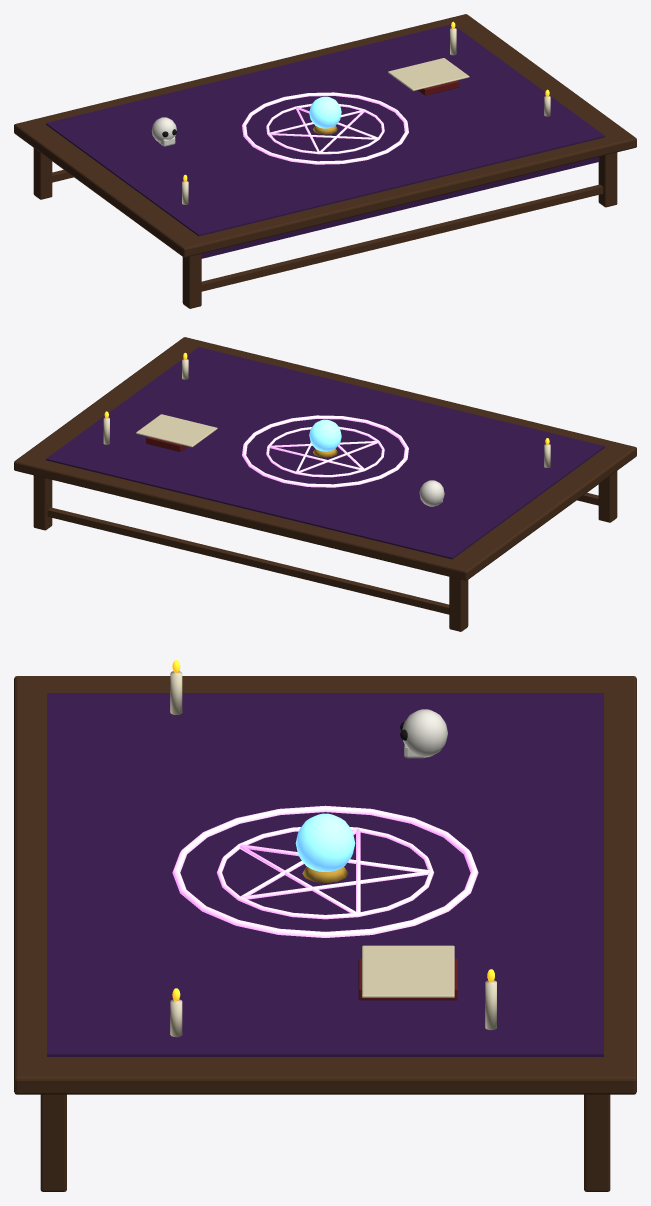
Rendered from sorcerers_table.glb.
The picture shows the model from 3 angles, top to bottom: view 1: azimuth 30°, elevation 25°; view 2: azimuth 150°, elevation 25°; view 3: azimuth 270°, elevation 25°; orthographic projection. The views are drawn at different scales.
Parts seen in each view (by area): view 1: sorcerers_table; view 2: sorcerers_table; view 3: sorcerers_table.
Boxes of the visible parts, x1,y1,x2,y2 form: sorcerers_table: [14, 14, 636, 308]; sorcerers_table: [14, 337, 636, 631]; sorcerers_table: [14, 660, 636, 1191].
Size of the model in its own units: 2.88 by 0.6236 by 1.88.
